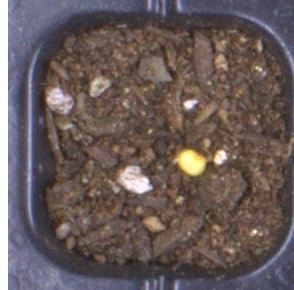chilli seed: (178, 150, 207, 177)
